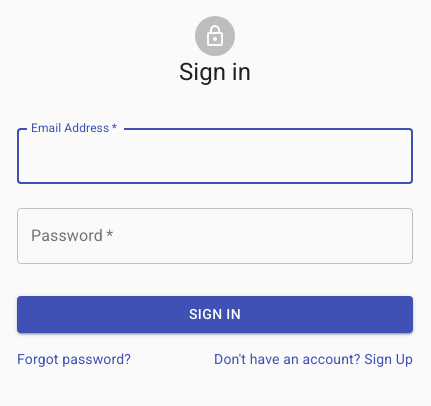
Signin › email input indicates invalid email error with invalid email input
Type "invalidEmail" into the field with test id "email-signin" at (215, 156), box [17, 128, 413, 184]
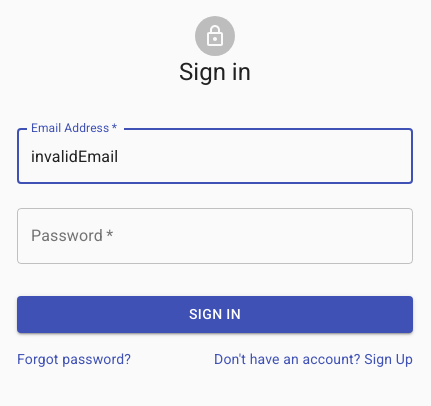
Type "zxcvbnm123" into the password field with test id "password-signin" at (215, 236), box [17, 208, 413, 264]
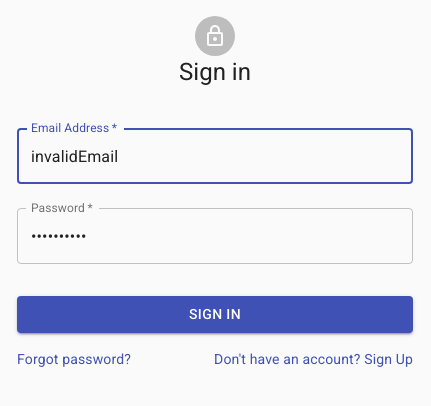
Click the button at (215, 314), box [17, 296, 413, 332]
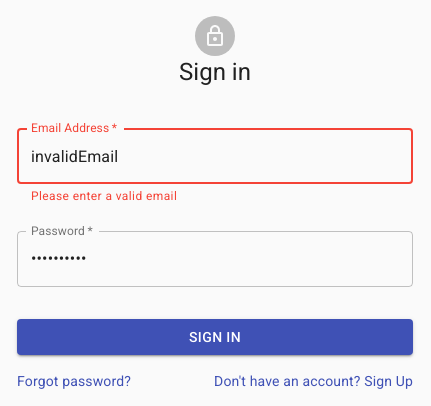
expect the text "Please enter a valid email" is shown: met, box [31, 189, 177, 203]
